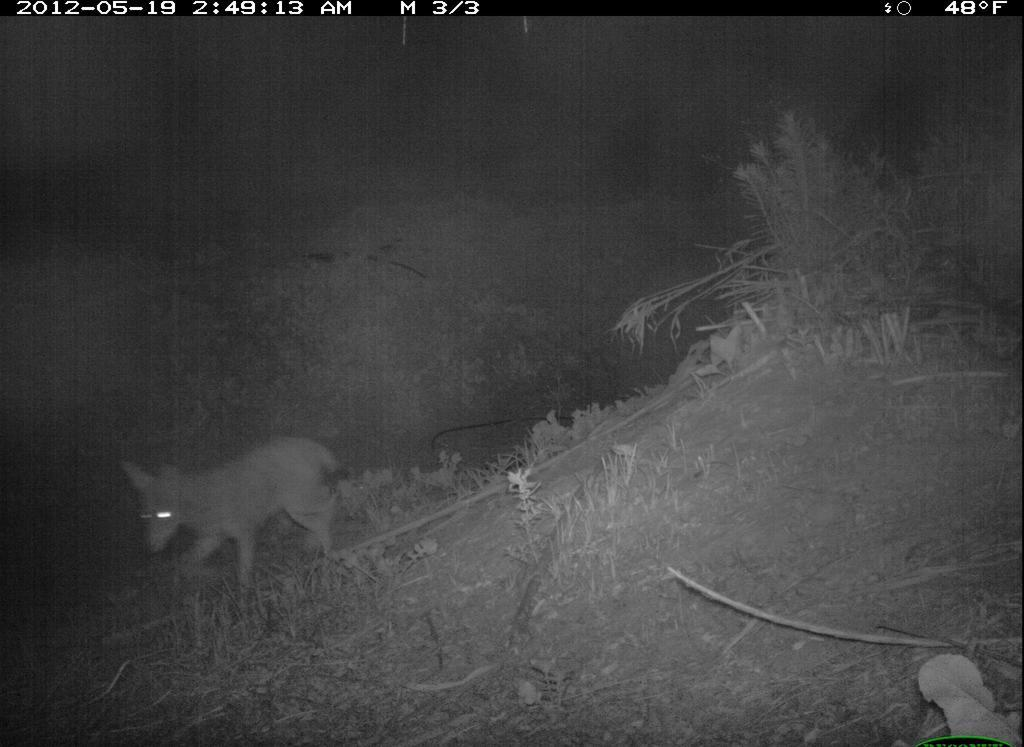coyote: (112, 431, 360, 623)
